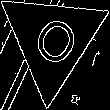O_SW: (23, 7, 82, 73)
